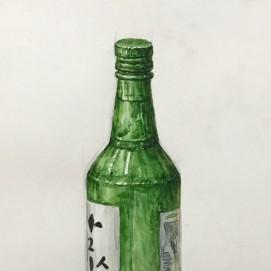soju: (84, 35, 185, 271)
